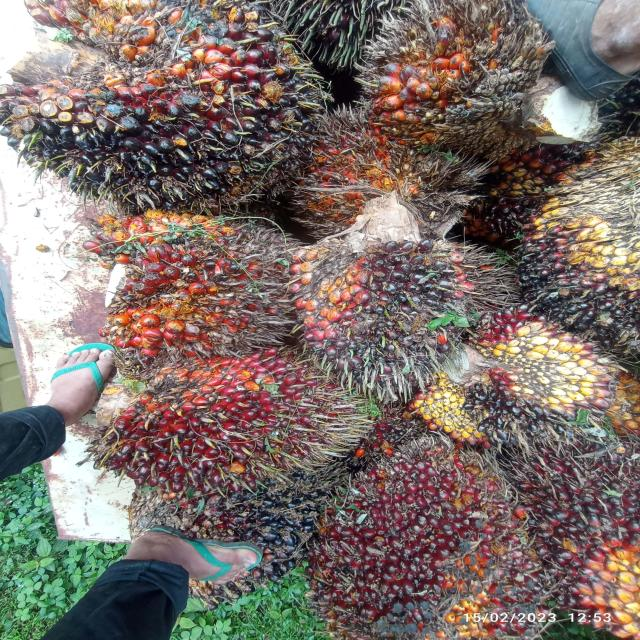fraksi 00: (0, 1, 334, 221), (400, 298, 629, 462), (302, 226, 478, 386)
fraksi 3: (289, 412, 574, 640), (75, 347, 378, 509), (62, 206, 306, 363)
fraksi 4: (332, 1, 593, 160), (282, 105, 472, 241), (505, 140, 640, 328)
